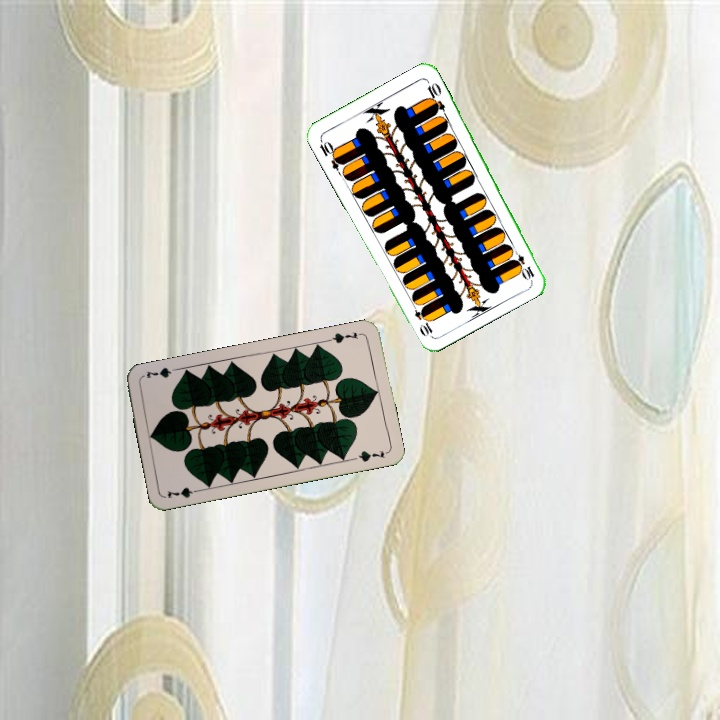E10: (315, 136, 346, 173), (509, 244, 537, 281)
G7: (325, 327, 365, 346), (163, 483, 204, 501)
